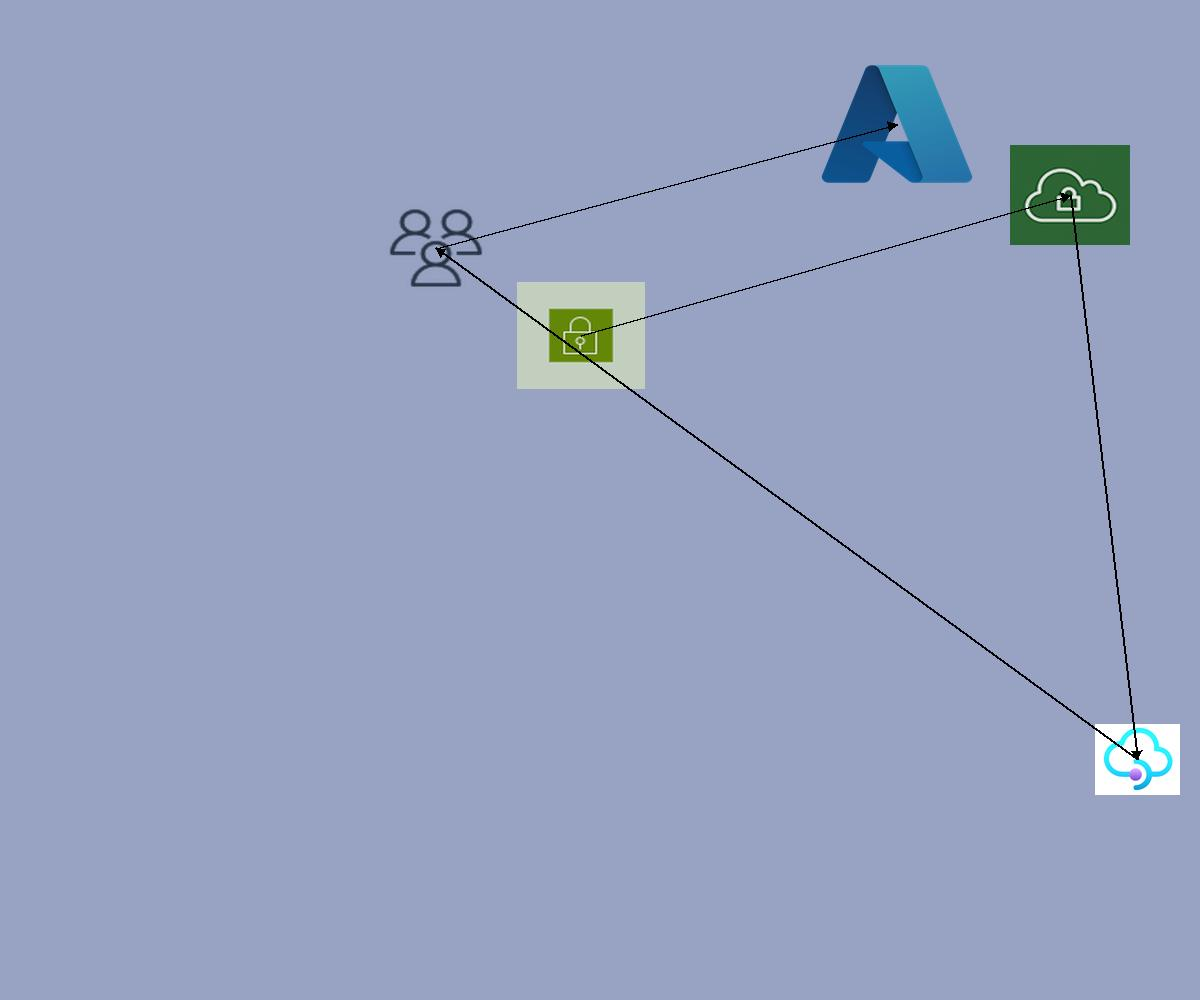AWS-Private_vpc: (1010, 145, 1130, 245)
AWS-Public-subnet: (517, 282, 645, 389)
AWS-Res_Users: (386, 206, 486, 290)
Azure_api_gateway: (1095, 724, 1180, 795)
Azure_services: (815, 56, 979, 192)
